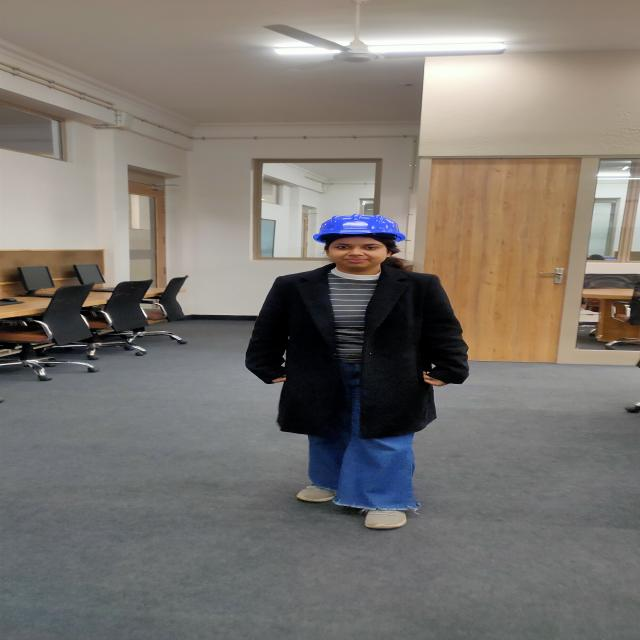no jacket: (242, 214, 472, 527)
